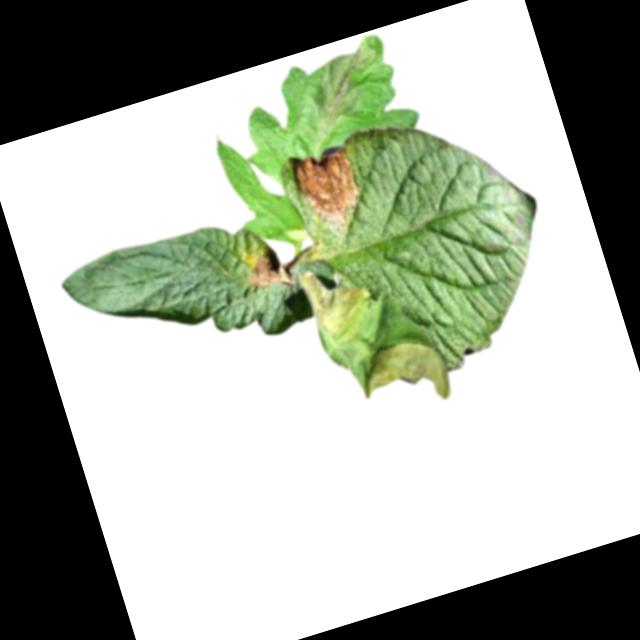Late_blight: (300, 33, 395, 135), (357, 328, 456, 421), (285, 141, 368, 240), (296, 254, 380, 348), (242, 247, 295, 298)
